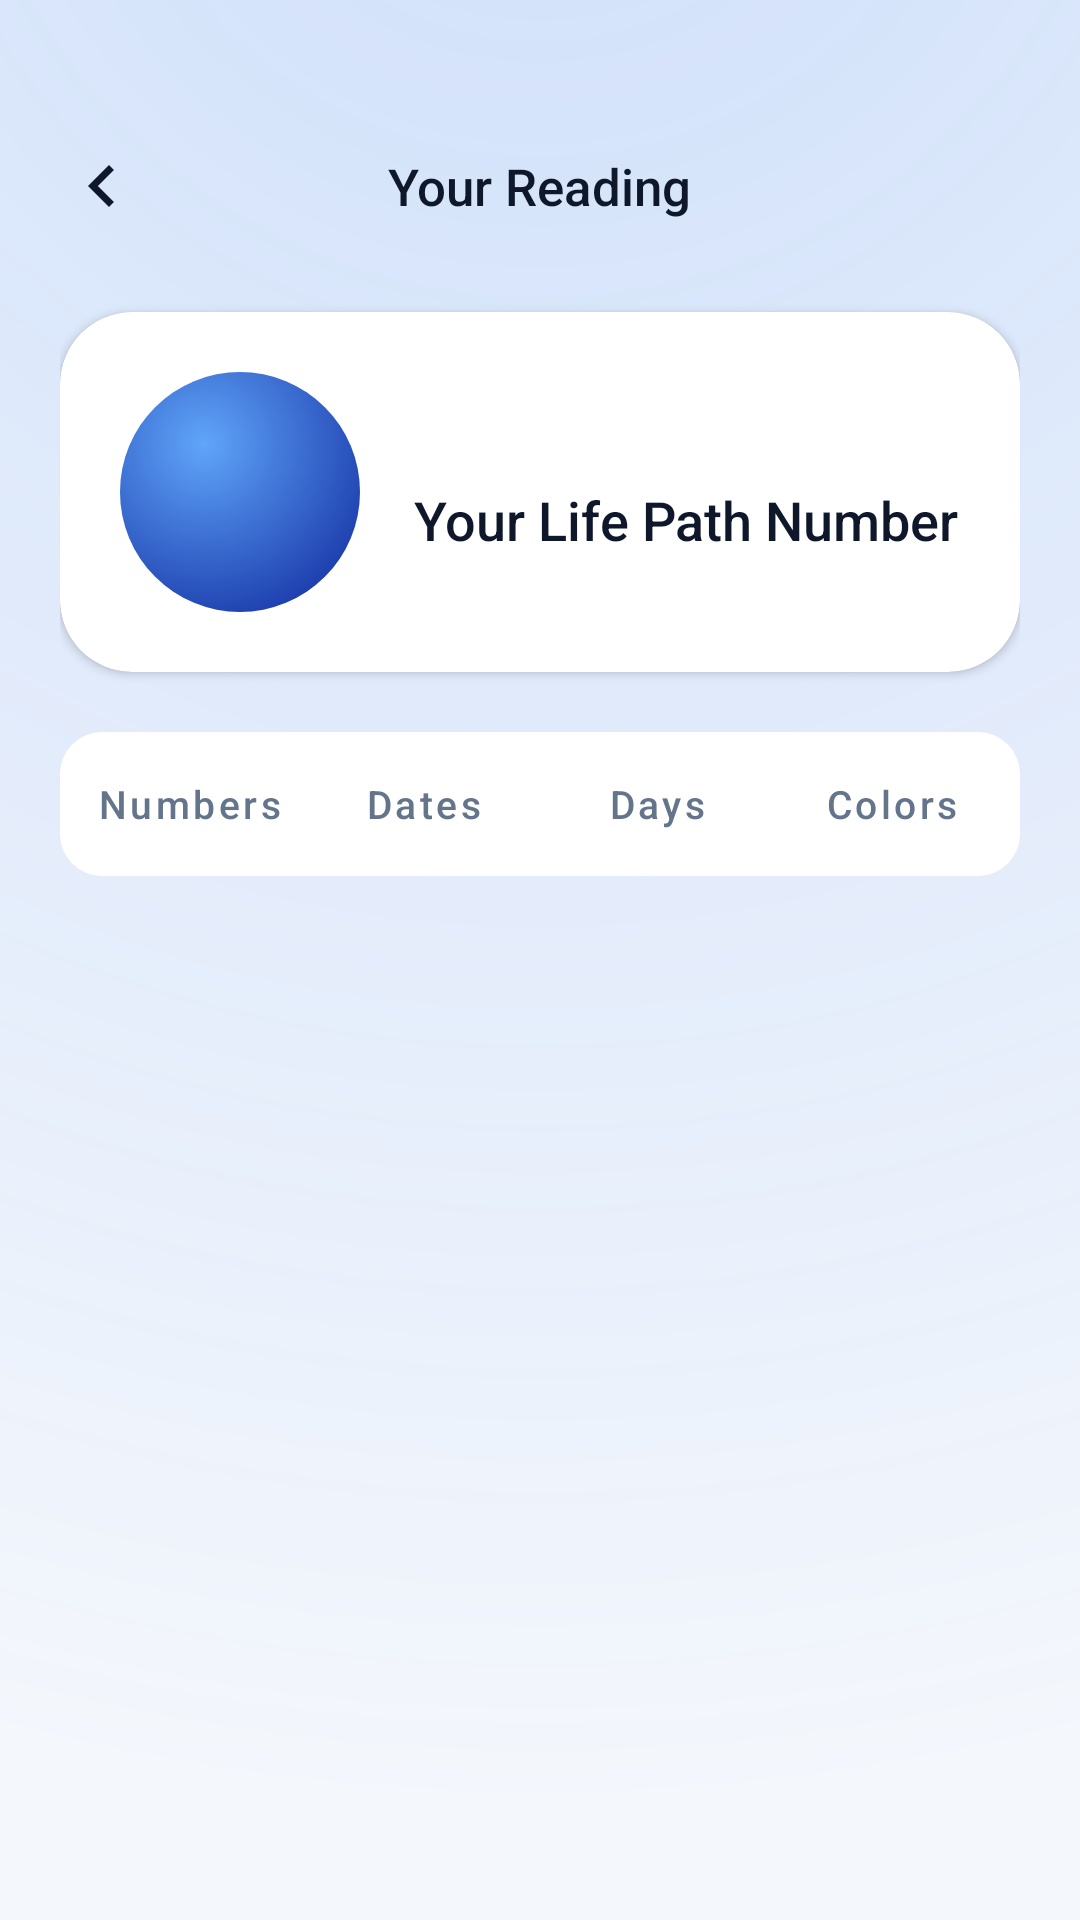

Screen size 1080w x 1920h. Icon name, then its center in pixels as (x,y):
Back: (101,186)
